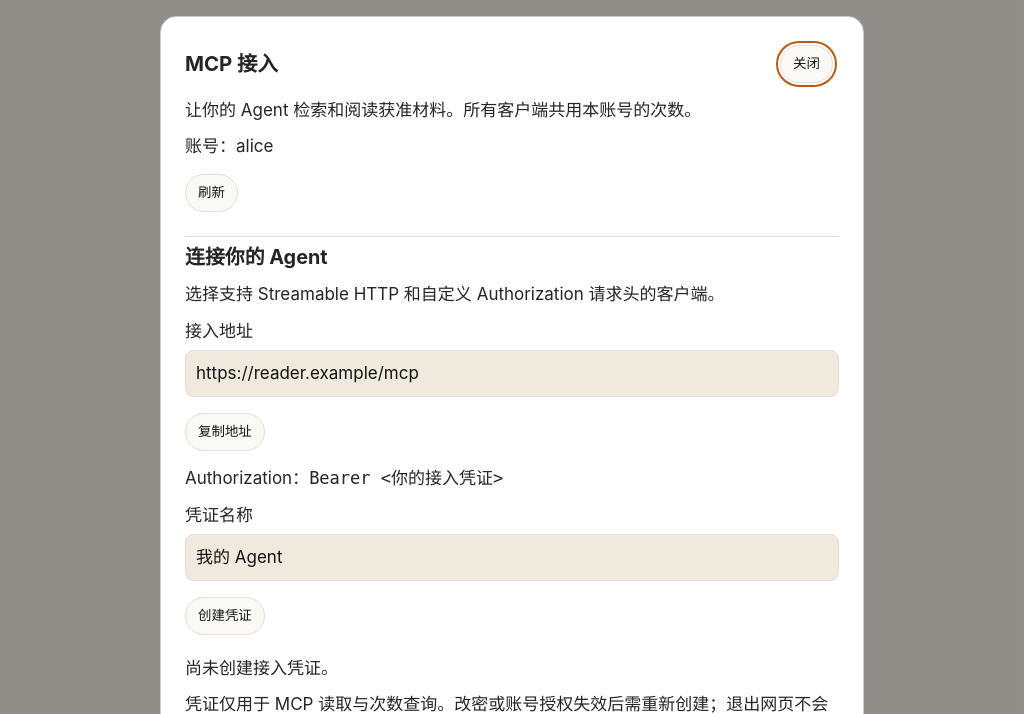
Test: works without a book, shows balances and every expiry, and creates a one-time credential then revokes it
Submit the form, box [185, 503, 839, 639]
(page scrolled)
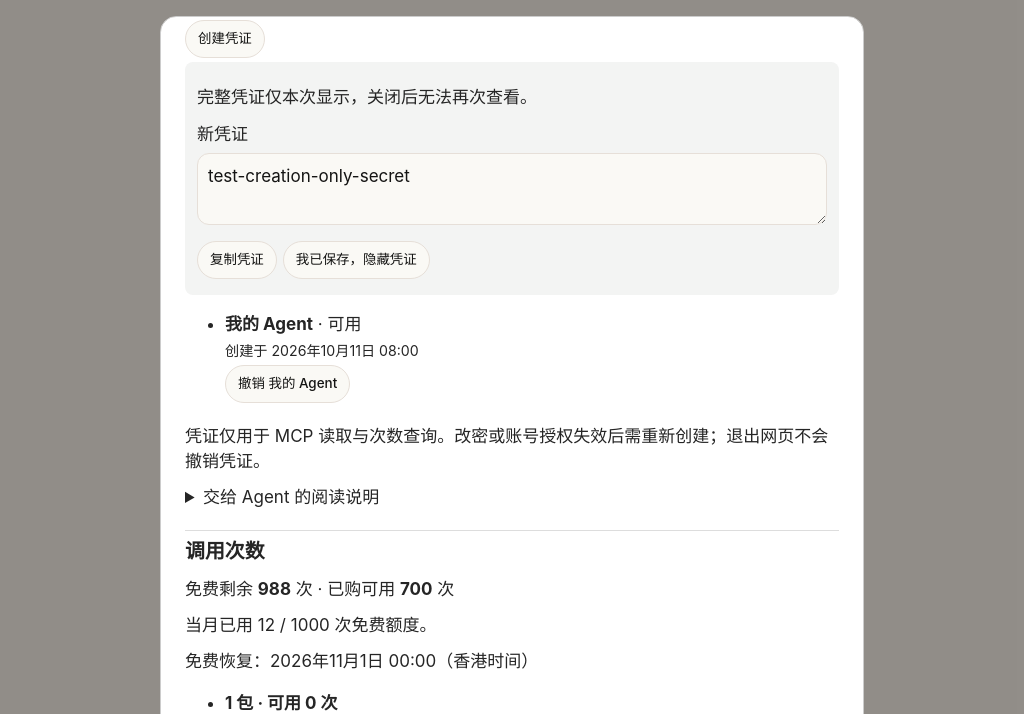
expect the element with class "credentials" does not show "test-creation-only-secret": met
expect the text box labelled "新凭证" holds "test-creation-only-secret": met, box [197, 153, 827, 225]
Click the button "撤销 我的 Agent" at (288, 384), box [225, 365, 350, 403]
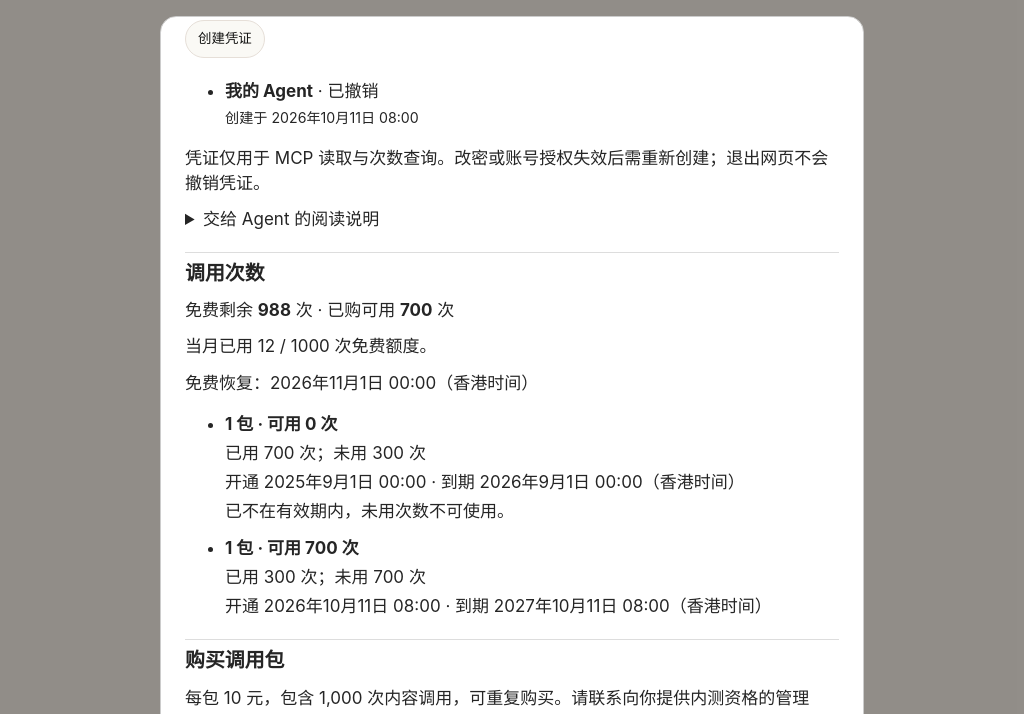
expect the list with class "credentials" shows "已撤销": met, box [313, 81, 378, 101]
